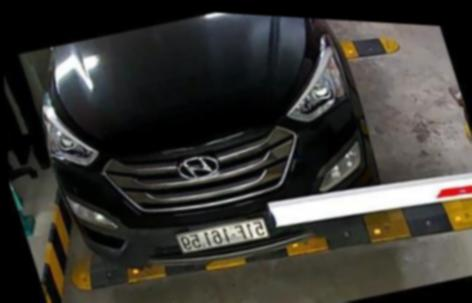License_Plate: (173, 209, 274, 265)
